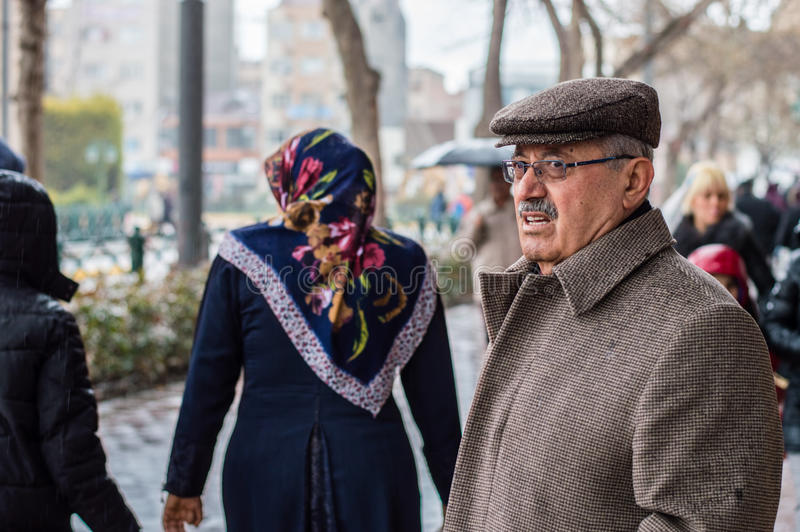face: (497, 104, 658, 265), (686, 160, 734, 227)
